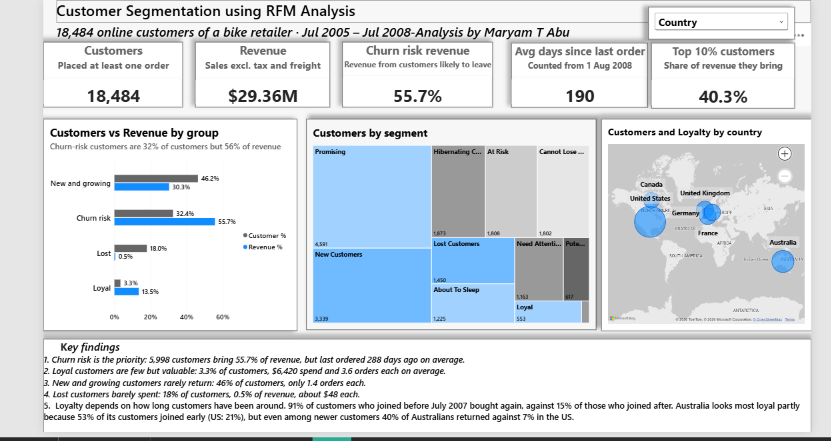

The page's visual inventory and layout, read from the dashboard file:
{"tool":"powerbi","page":{"name":"Overview","canvas":[1920,1080],"ordinal":0},"visuals":[{"type":"textbox","box":[31.7,0,1888.4,58.6],"z":0},{"type":"textbox","box":[31.7,58.6,1888.4,46.4],"z":1},{"type":"textbox","box":[917.4,58.6,1002.8,46.4],"z":2},{"type":"cardVisual","title":"Customers","fields":{"Data":["vw_rfm_customers.Customers"]},"box":[0,104.9,348.9,163.5],"z":3},{"type":"cardVisual","title":"Revenue","fields":{"Data":["vw_rfm_customers.Revenue"]},"box":[380.6,104.9,336.7,163.5],"z":4},{"type":"cardVisual","title":"Churn risk revenue","fields":{"Data":["vw_rfm_customers.Churn Risk Revenue %"]},"box":[746.6,104.9,375.7,163.5],"z":5},{"type":"cardVisual","title":"Avg days since last order","fields":{"Data":["vw_rfm_customers.Avg Days Since Order"]},"box":[1171.1,107.4,341.6,161],"z":6},{"type":"cardVisual","title":"Top 10% customers","fields":{"Data":["vw_rfm_customers.Top 10% Revenue Share"]},"box":[1520,107.4,358.7,163.5],"z":7},{"type":"clusteredBarChart","title":"Customers vs Revenue by group","fields":{"Category":["vw_rfm_customers.customer_group"],"Y":["vw_rfm_customers.Customer %","vw_rfm_customers.Revenue %"]},"box":[0,297.7,634.4,529.4],"z":8},{"type":"treemap","title":"Customers by segment","fields":{"Group":["vw_rfm_customers.segment"],"Values":["vw_rfm_customers.Customers"]},"box":[656.3,297.7,724.6,527],"z":9},{"type":"map","title":"Customers and Loyalty by country","fields":{"Category":["vw_rfm_customers.country"],"Size":["vw_rfm_customers.Customers"]},"box":[1394,298,526,530],"z":11},{"type":"textbox","box":[0,846.6,1920.1,234.2],"z":12},{"type":"listSlicer","fields":{"Values":["vw_rfm_customers.country"]},"box":[1512.7,17.1,366,80.5],"z":13}]}

Visuals, with their boxes on the page's 1920x1080 design canvas (x1, y1, x2, y2). These are canvas units, not pixel positions in the 831x441 screenshot, which may show the page scaled, cropped or inside an application window:
textbox: bbox(32, 0, 1920, 59)
textbox: bbox(32, 59, 1920, 105)
textbox: bbox(917, 59, 1920, 105)
"Customers" cardVisual: bbox(0, 105, 349, 268)
"Revenue" cardVisual: bbox(381, 105, 717, 268)
"Churn risk revenue" cardVisual: bbox(747, 105, 1122, 268)
"Avg days since last order" cardVisual: bbox(1171, 107, 1513, 268)
"Top 10% customers" cardVisual: bbox(1520, 107, 1879, 271)
"Customers vs Revenue by group" clusteredBarChart: bbox(0, 298, 634, 827)
"Customers by segment" treemap: bbox(656, 298, 1381, 825)
"Customers and Loyalty by country" map: bbox(1394, 298, 1920, 828)
textbox: bbox(0, 847, 1920, 1081)
listSlicer - vw_rfm_customers.country: bbox(1513, 17, 1879, 98)
